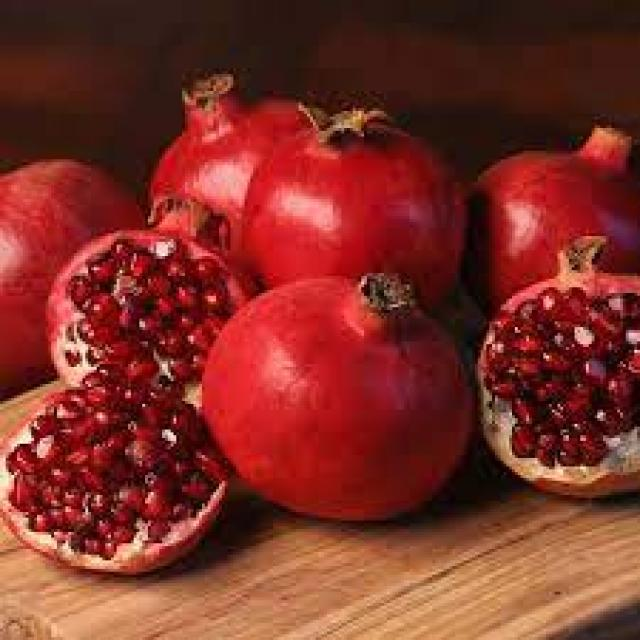pomegranate: (208, 262, 480, 529), (3, 361, 247, 569), (228, 88, 480, 287), (45, 208, 259, 412), (480, 236, 640, 506), (458, 108, 640, 302), (131, 62, 299, 262)
